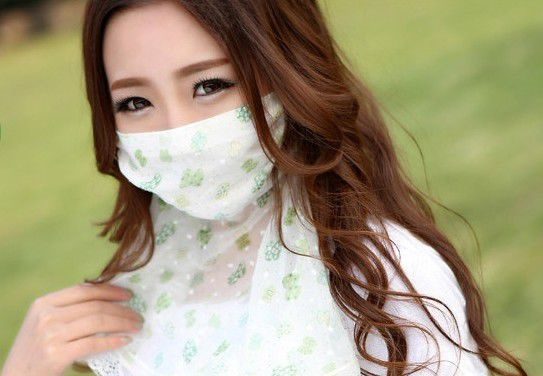face_mask: (100, 7, 278, 211)
